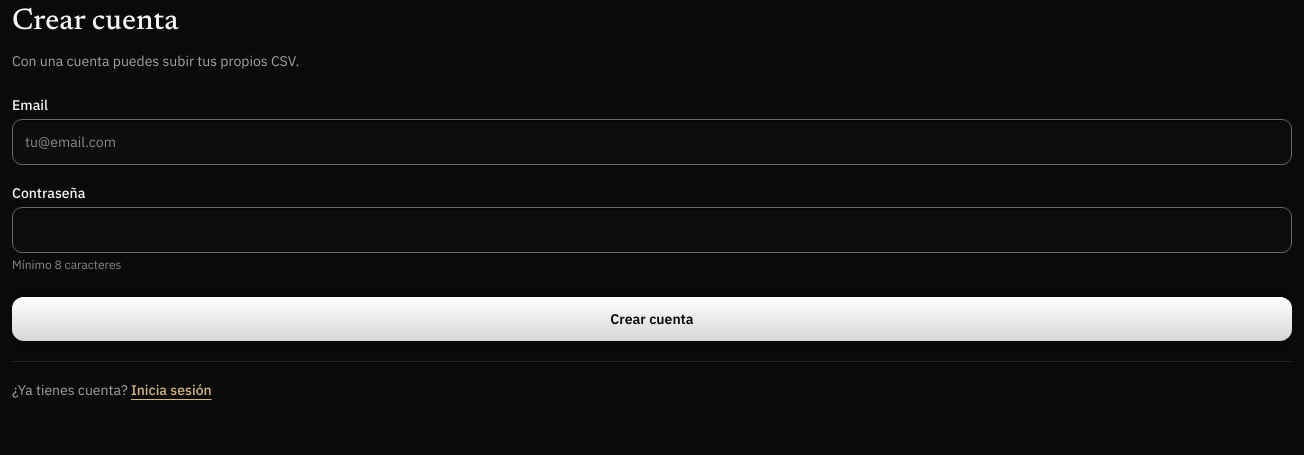
Test case: /signup › announces a failed signup as an alert
The image size is (1304, 455).
Type "ana@example.com" into the field labelled "Email" at point(652, 142), box x1=12 y1=119 x2=1292 y2=165
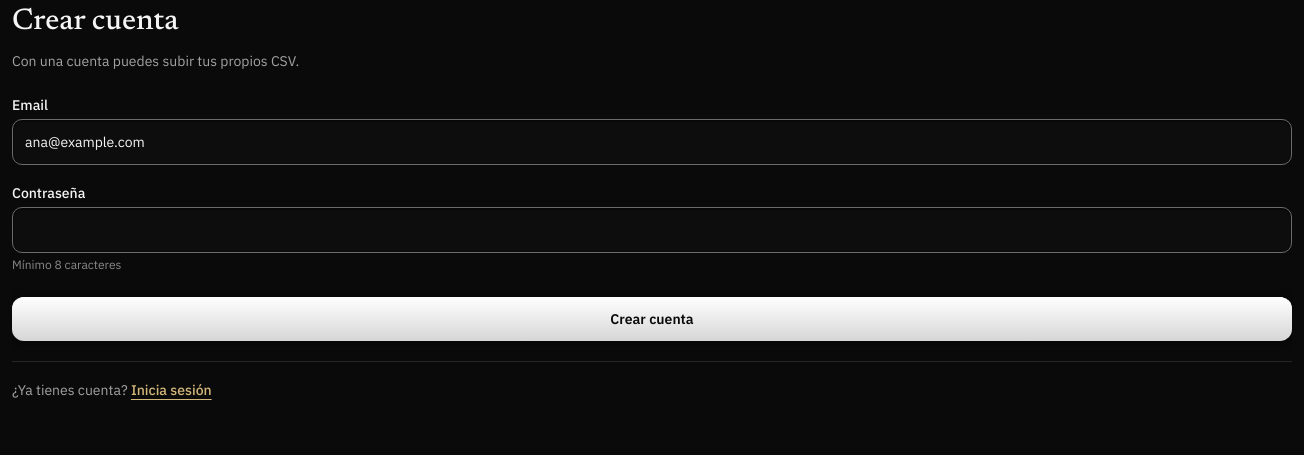
Type "secreta123" into the password field labelled "Contraseña" at point(652, 230), box x1=12 y1=207 x2=1292 y2=253
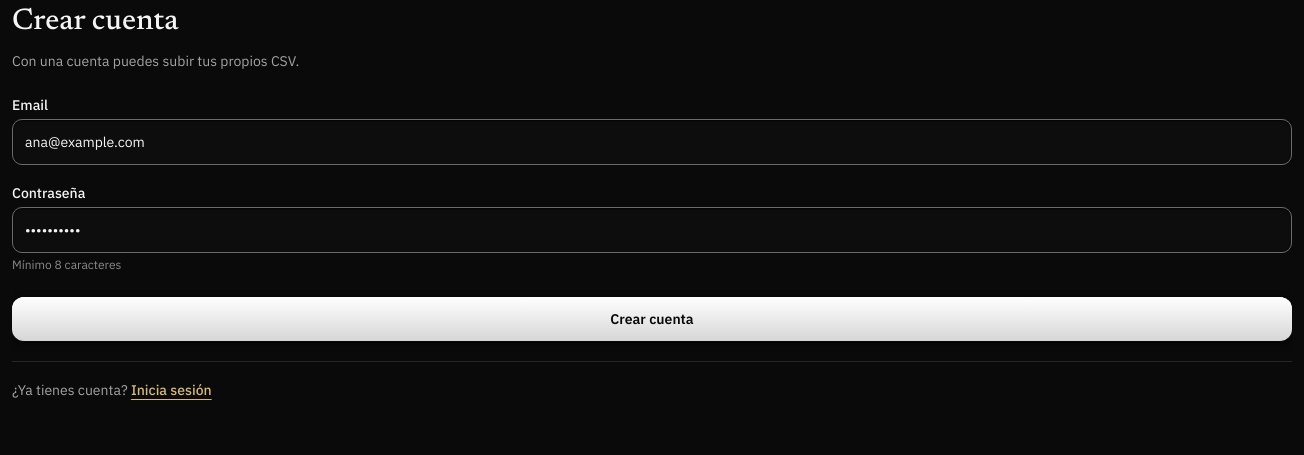
Click the button "Crear cuenta" at point(652, 319), box x1=12 y1=297 x2=1292 y2=341
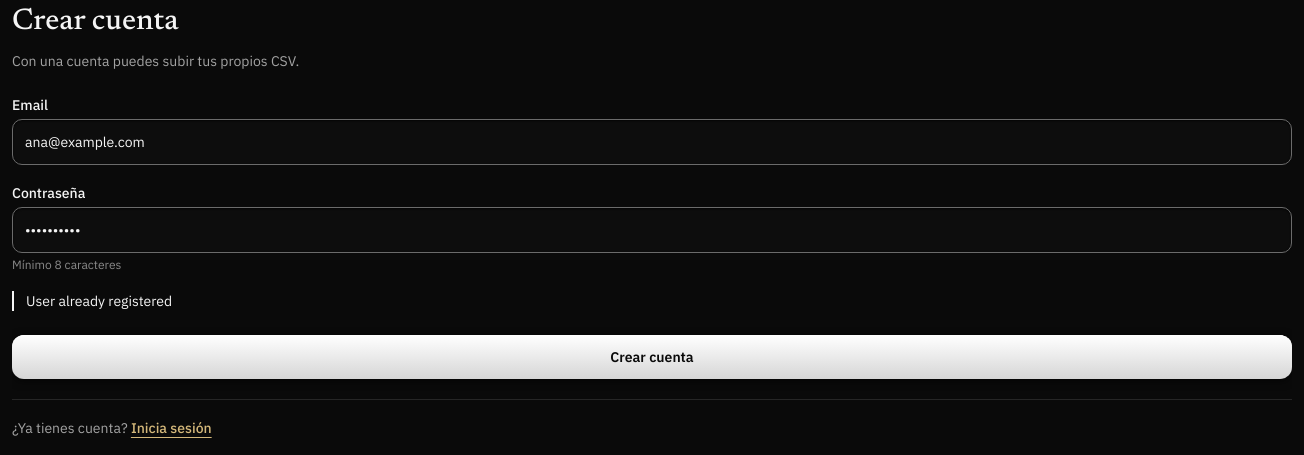
Result: the message reads "User already registered" at x1=26 y1=292 x2=172 y2=310
